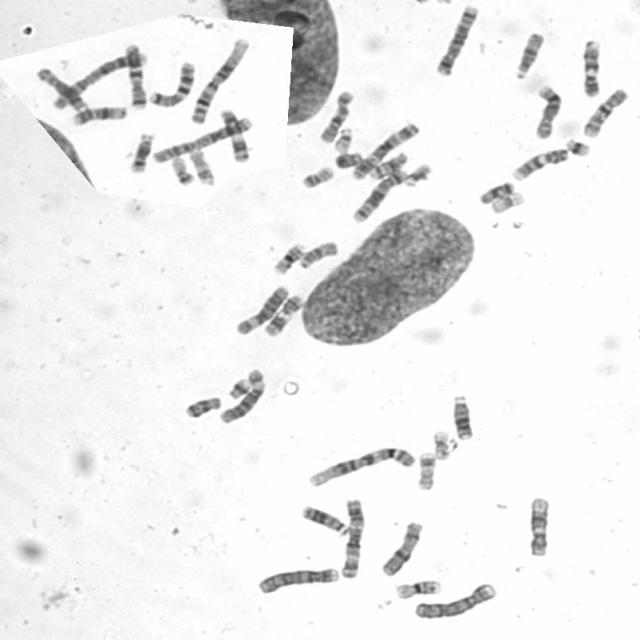A1: (186, 33, 252, 125), (304, 441, 418, 488)
A2: (45, 46, 148, 111), (148, 110, 254, 164)
A3: (347, 118, 421, 180), (336, 494, 367, 579)
B4: (409, 578, 499, 620), (253, 562, 341, 596)
B5: (431, 0, 481, 77), (347, 164, 409, 224)
C10: (578, 83, 630, 139), (314, 84, 356, 144)
C11: (258, 290, 305, 338), (214, 104, 250, 164)
C12: (524, 492, 552, 557), (67, 101, 129, 126)
C6: (232, 280, 290, 336), (214, 365, 267, 424)
C7: (144, 57, 197, 107), (119, 39, 148, 110)
C8: (31, 62, 89, 112), (529, 80, 564, 140)
C9: (506, 143, 570, 182), (577, 35, 603, 98)
D13: (296, 500, 350, 536), (447, 390, 475, 440)
D14: (359, 150, 410, 183), (124, 128, 156, 174)
D15: (510, 27, 546, 80), (294, 237, 340, 270)
E16: (268, 238, 307, 276), (390, 574, 443, 600)
E17: (185, 144, 216, 186), (412, 446, 437, 492)
E18: (180, 391, 223, 419), (475, 177, 516, 205)
F19: (487, 188, 526, 215), (428, 425, 452, 461)
F20: (297, 161, 336, 189), (402, 160, 434, 188)
G21: (561, 134, 593, 157), (226, 376, 254, 399)
G22: (167, 152, 195, 186), (329, 123, 355, 154)
X: (376, 516, 425, 577)
Y: (330, 148, 365, 170)
